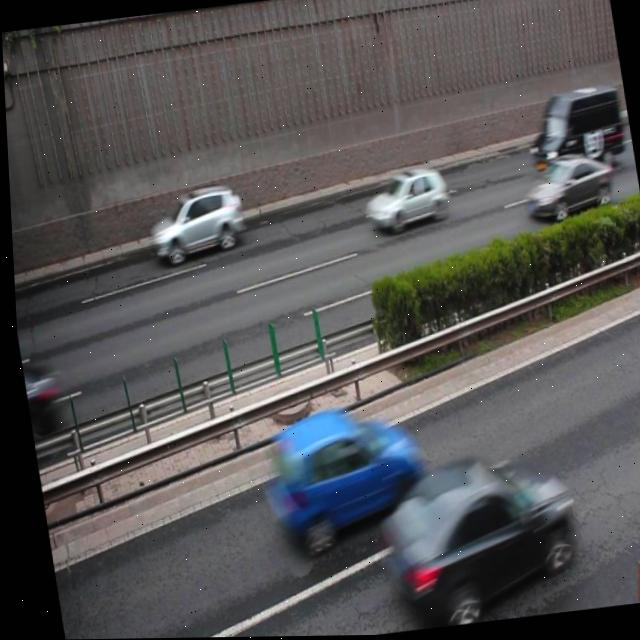car: (363, 443, 579, 633), (252, 402, 423, 556), (143, 182, 246, 267), (516, 151, 614, 224), (356, 162, 449, 236)
truck: (520, 83, 627, 178)
